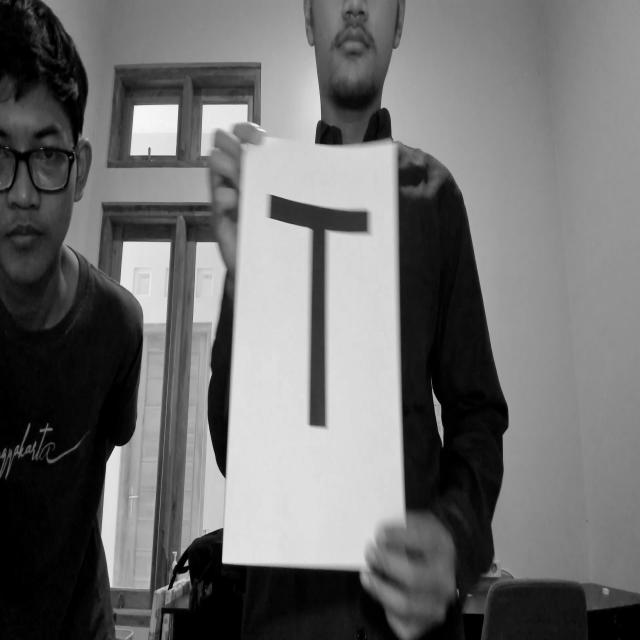t: (262, 166, 387, 459)
